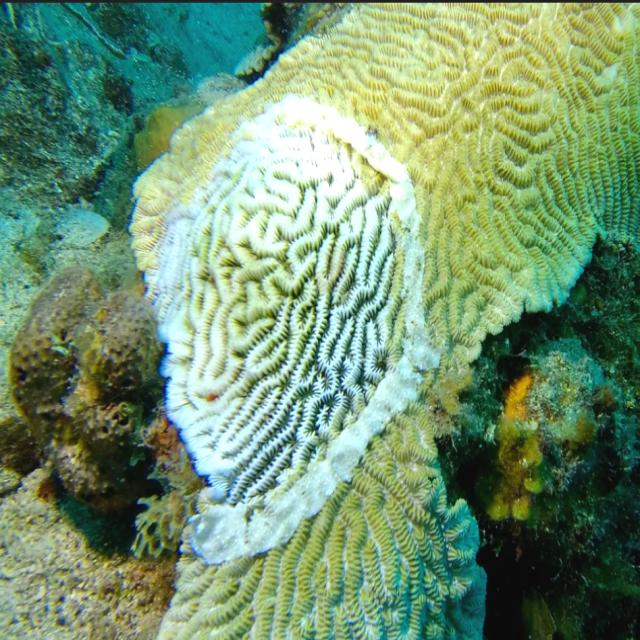Coral: (129, 0, 640, 640)
